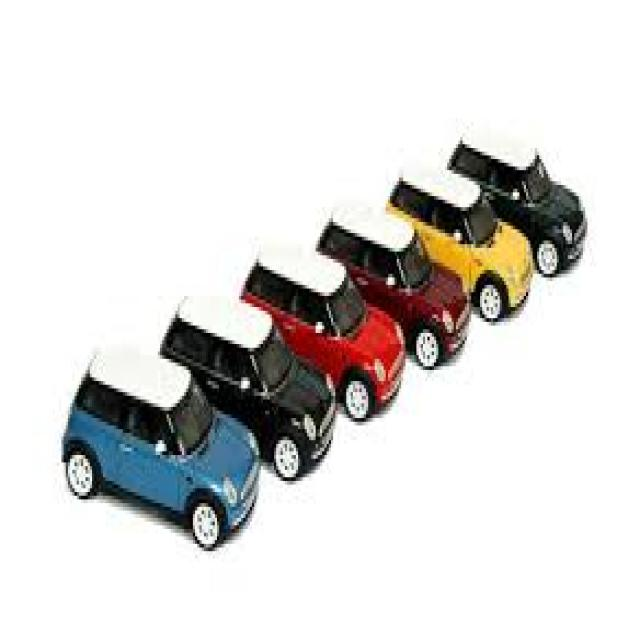Car: (62, 344, 259, 549), (164, 309, 334, 473), (246, 248, 404, 415), (317, 204, 467, 350), (389, 161, 532, 306), (451, 130, 590, 257)
